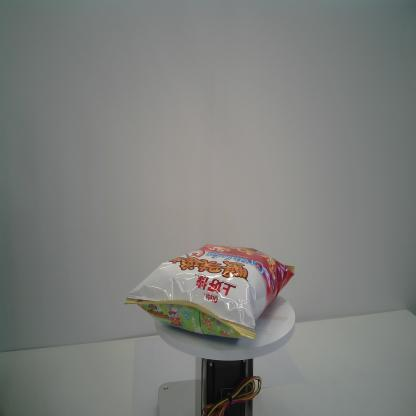Puffed Food: (124, 243, 295, 341)
